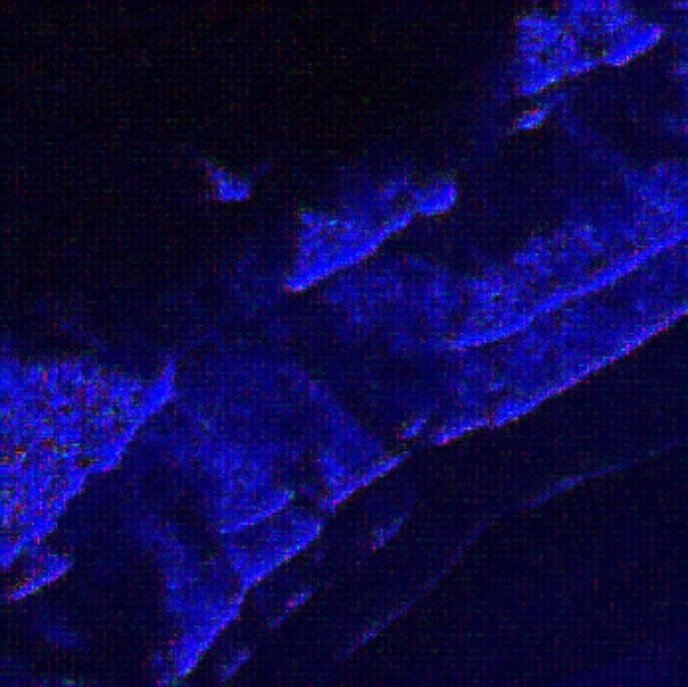rip_current: (194, 215, 479, 467)
